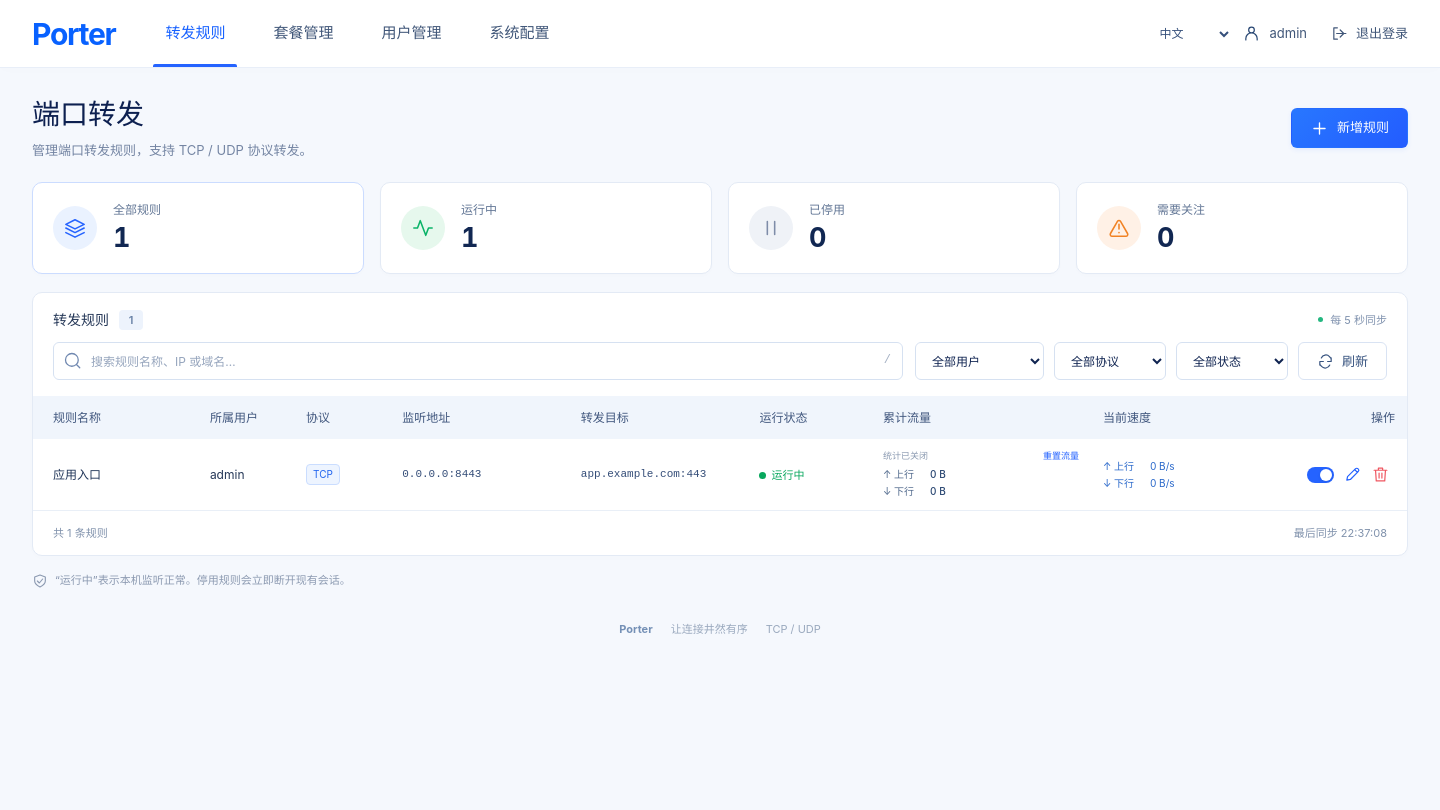
Test: 管理员访问 › 登录过期后关闭规则表单并回到登录页
Step 1. Click the button "新增规则" → (1350,128), box [1291,108,1408,148]
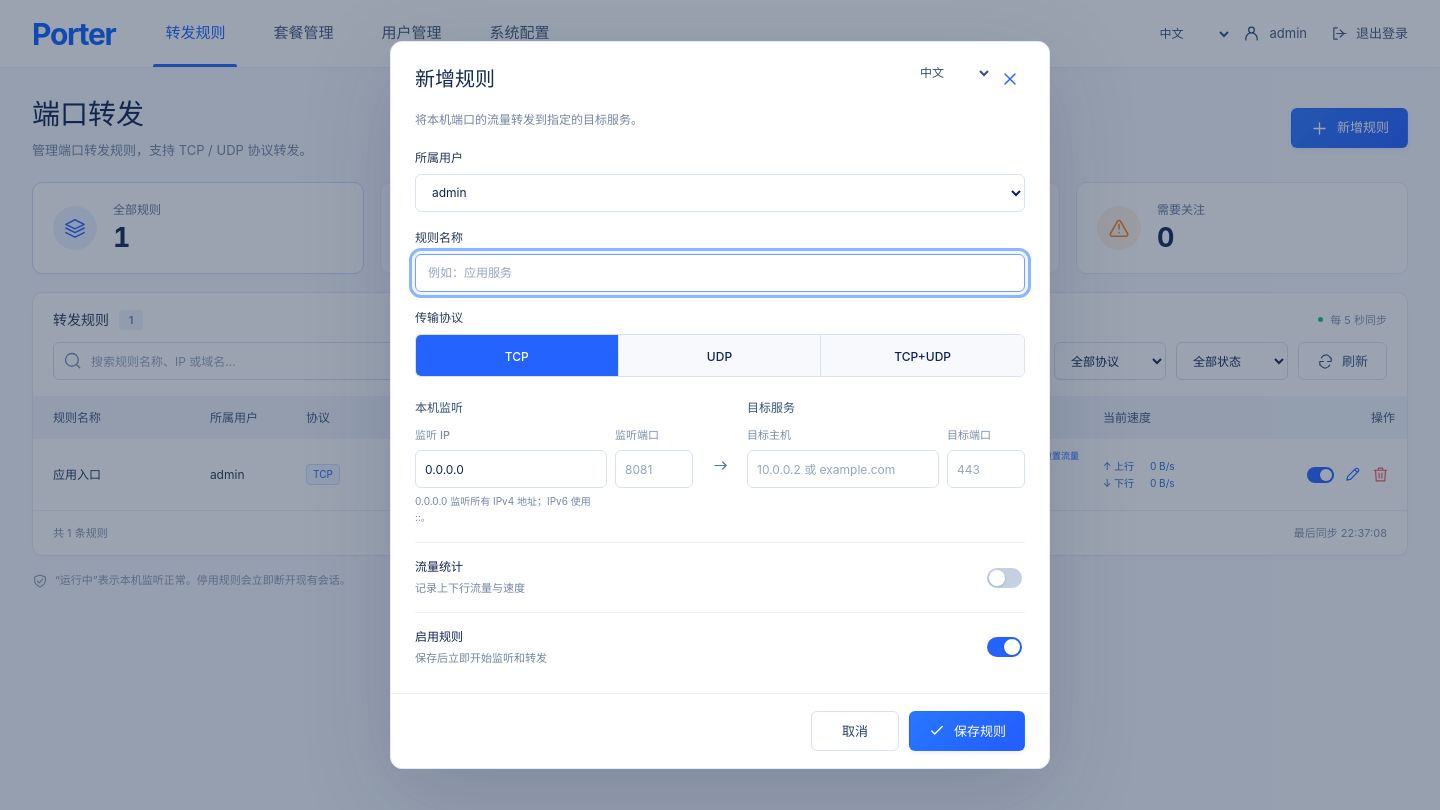
Step 2. Type "DNS 入口" into the field with id "rule-name" → (720,273), box [415,254,1025,292]
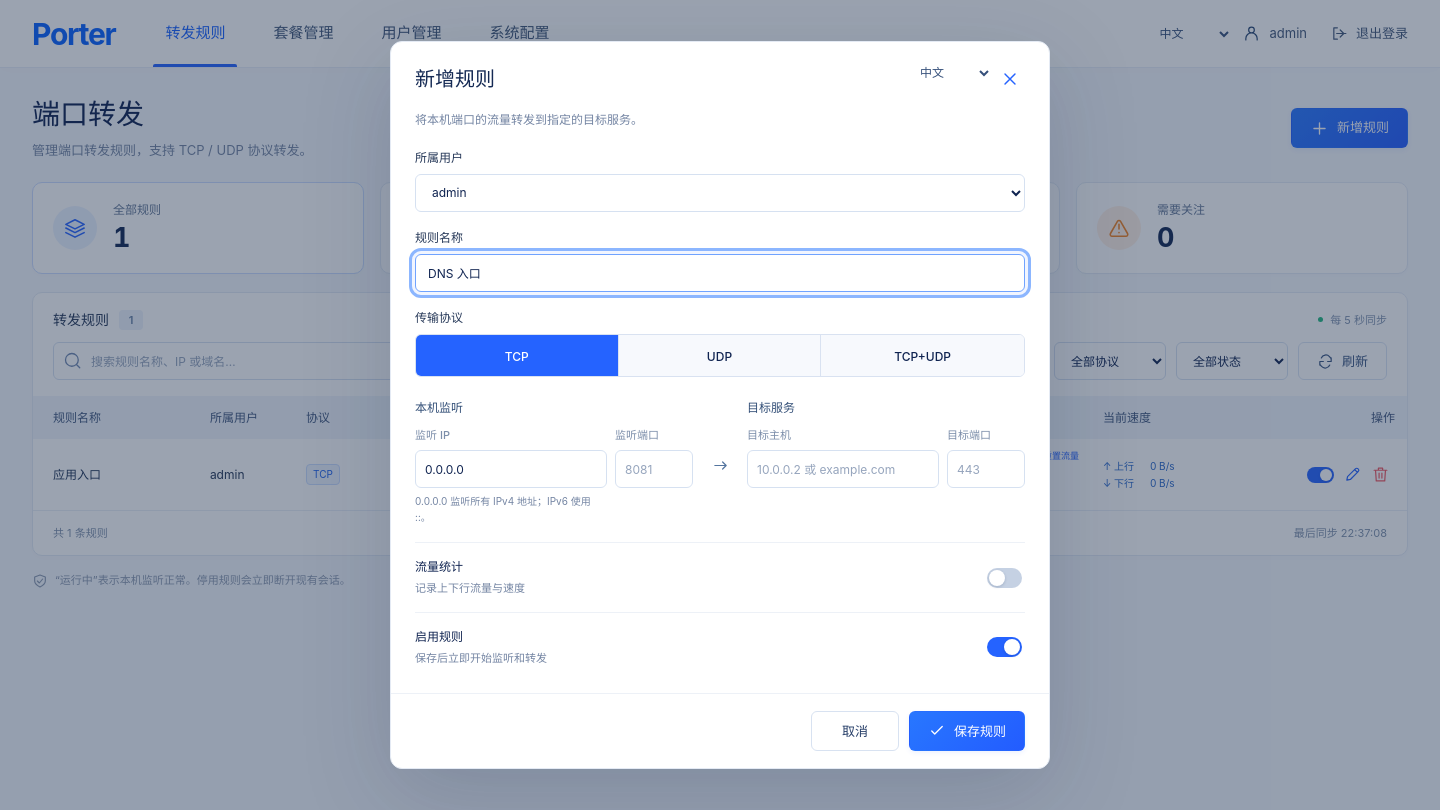
Step 3. Type "5353" into the field with id "listen-port" → (654,469), box [615,450,693,488]
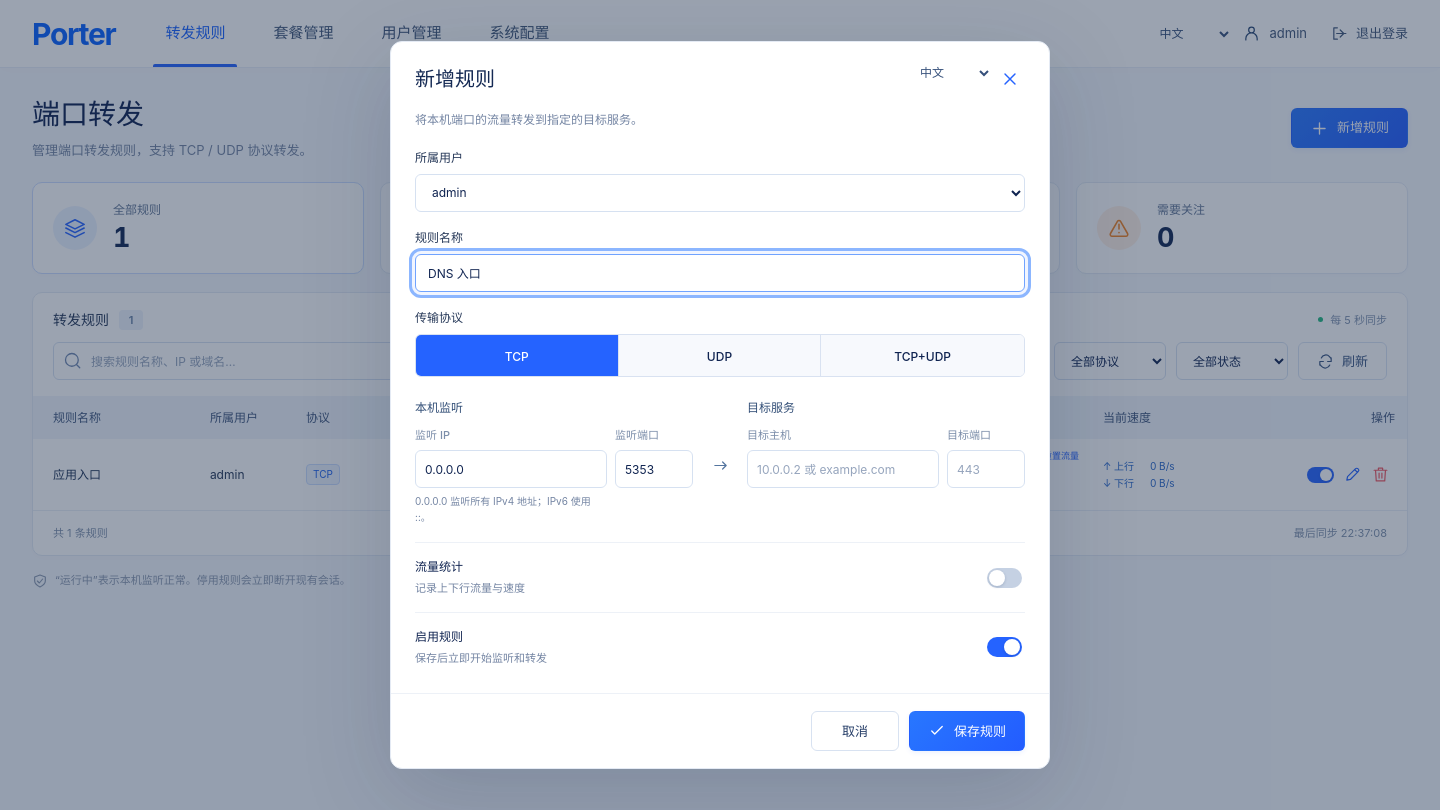
Step 4. Type "10.0.0.2" into the field with id "target-host" → (843,469), box [747,450,939,488]
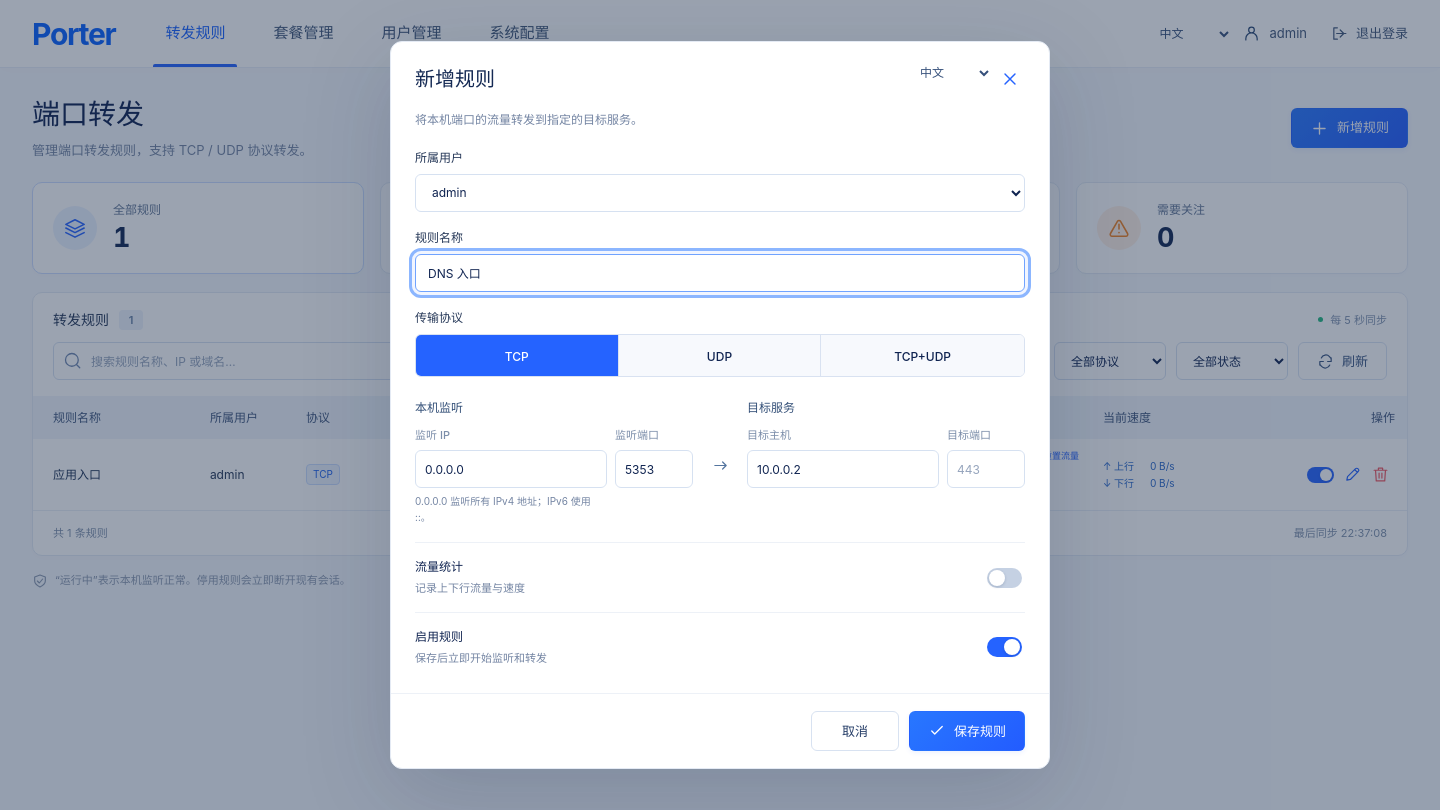
Step 5. Type "53" into the field with id "target-port" → (986,469), box [947,450,1025,488]
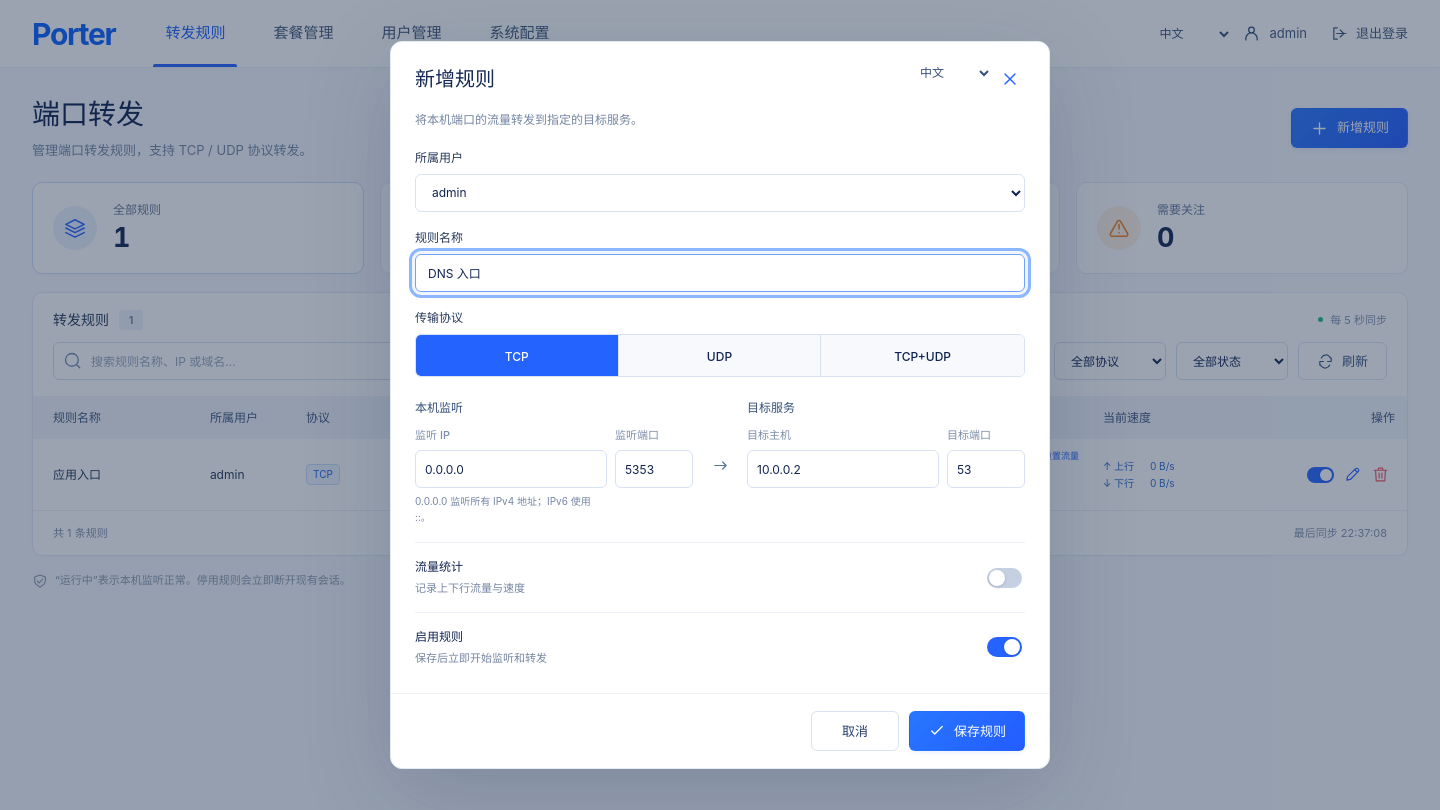
Step 6. Submit the form with class "editor", box [391,42,1049,768]
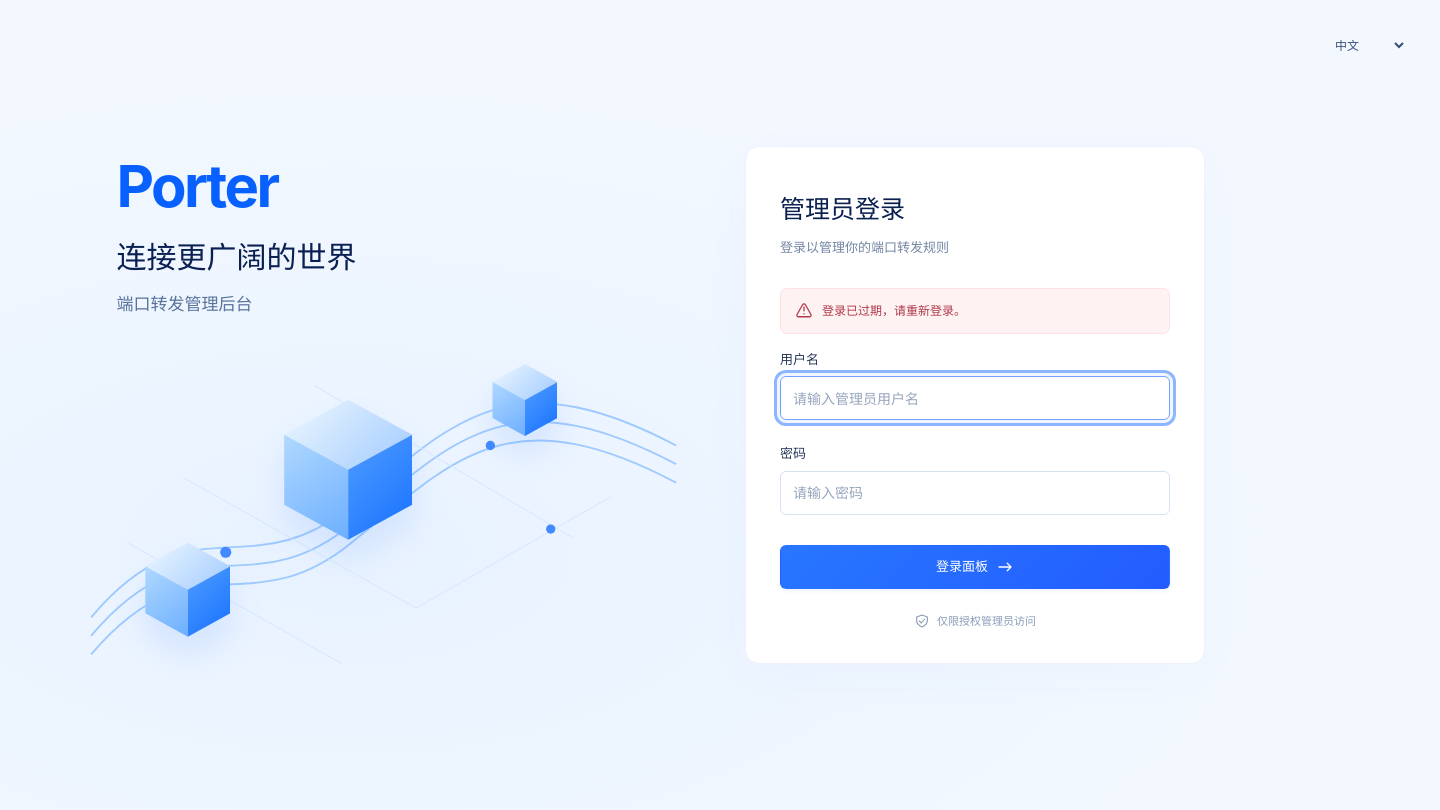
Expected: the element with class "login-page" shows "登录已过期", [822,302,966,318]
